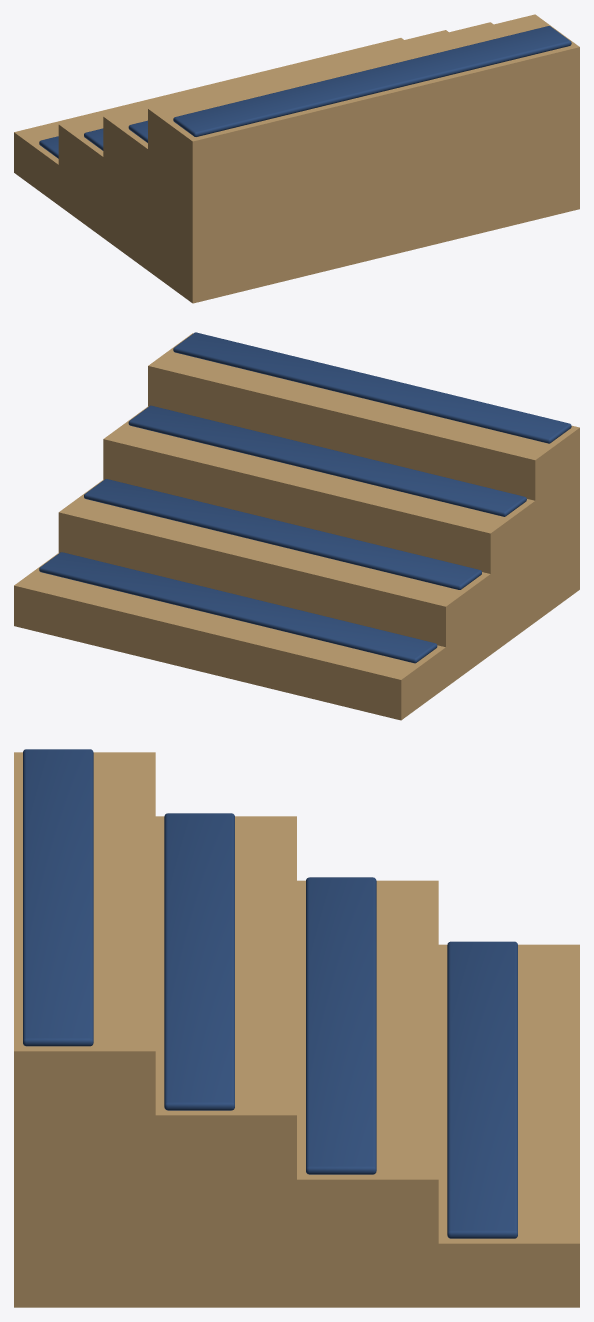
File: school.hall.tiered_seating.glb
The picture shows the model from 3 angles, top to bottom: view 1: azimuth 30°, elevation 25°; view 2: azimuth 150°, elevation 25°; view 3: azimuth 270°, elevation 25°; orthographic projection. The views are drawn at different scales.
Visible parts, largest first — view 1: main__plywood, main__fabric_blue; view 2: main__plywood, main__fabric_blue; view 3: main__plywood, main__fabric_blue.
Part boxes in pixels (box(x1,y1,x2,y2)): main__plywood: box(14, 14, 579, 303); main__fabric_blue: box(39, 26, 571, 158); main__plywood: box(14, 333, 579, 720); main__fabric_blue: box(39, 332, 571, 663); main__plywood: box(14, 752, 579, 1307); main__fabric_blue: box(23, 749, 517, 1238).
Bounding box in the file's own units: 4 × 1.65 × 3.2.
